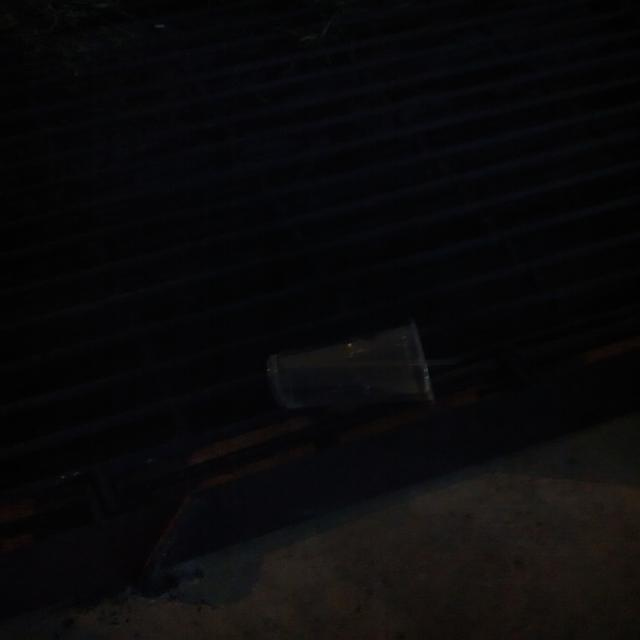Cup: (264, 324, 451, 429)
